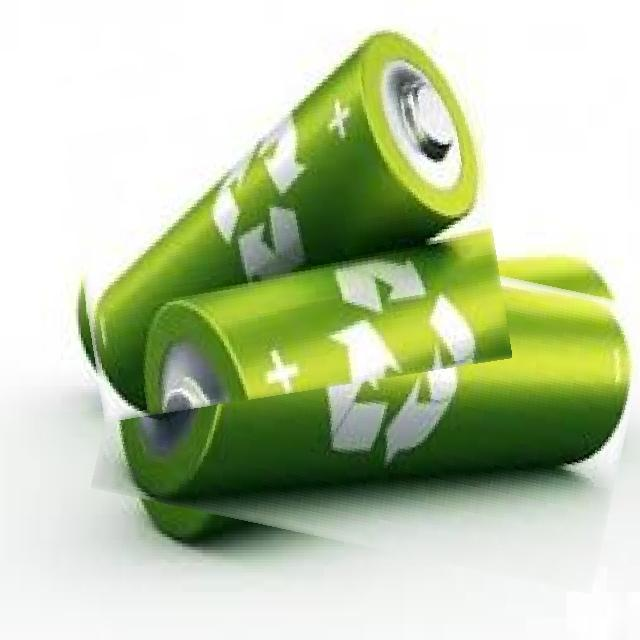Battery: (96, 17, 496, 407), (115, 273, 635, 504), (146, 225, 513, 422)
